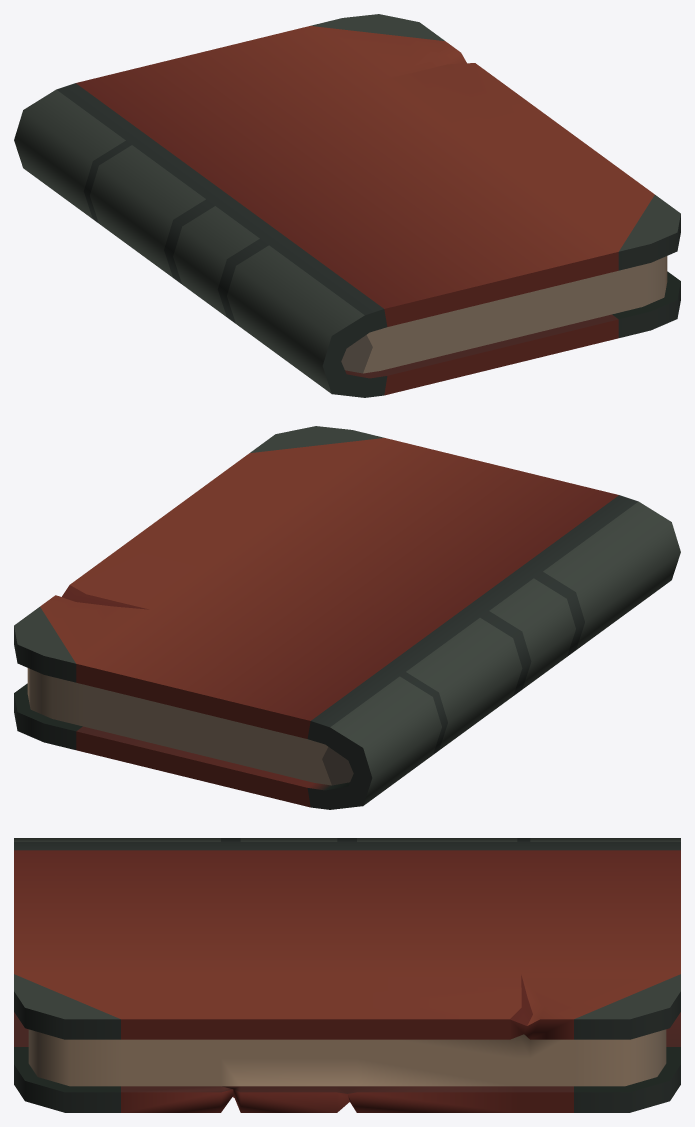
Rendered from human-household-items-book_v12.glb.
The picture shows the model from 3 angles, top to bottom: view 1: azimuth 30°, elevation 25°; view 2: azimuth 150°, elevation 25°; view 3: azimuth 270°, elevation 25°; orthographic projection. The views are drawn at different scales.
Visible parts, largest first — view 1: Book_v12; view 2: Book_v12; view 3: Book_v12.
Part boxes in pixels (<box>): Book_v12: <box>14,14,680,397</box>; Book_v12: <box>14,426,680,809</box>; Book_v12: <box>14,838,680,1112</box>.
Bounding box in the file's own units: 0.1786 × 0.0387 × 0.25.
